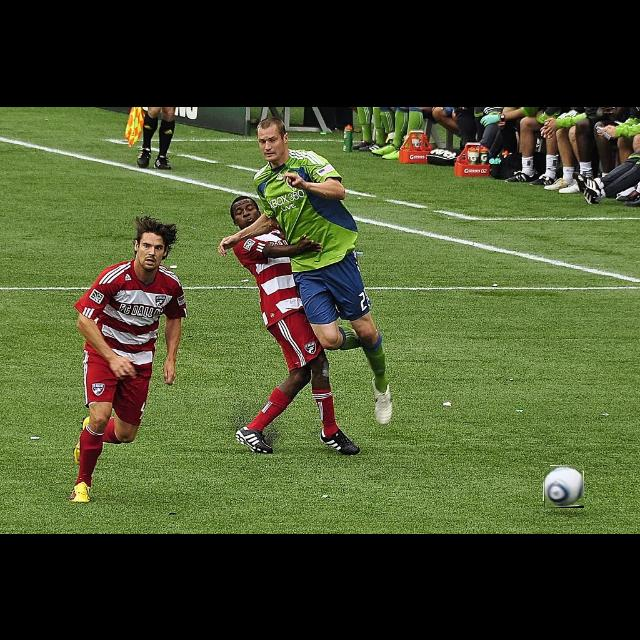Football: (544, 466, 584, 508)
